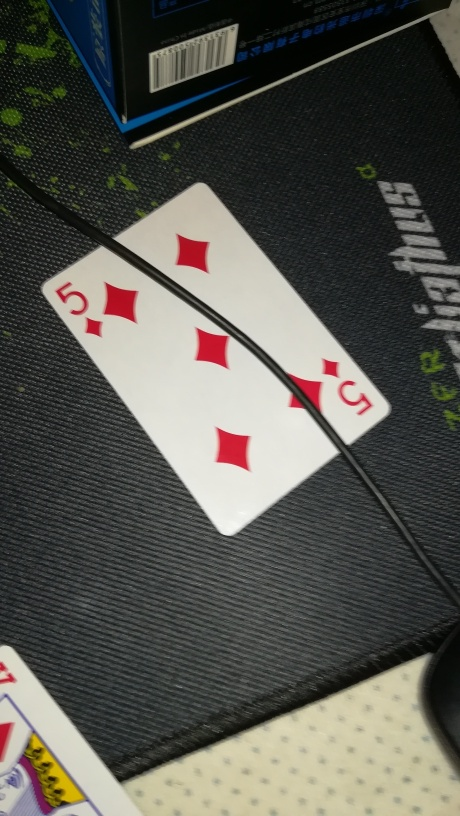fk 5: (37, 179, 394, 540)
